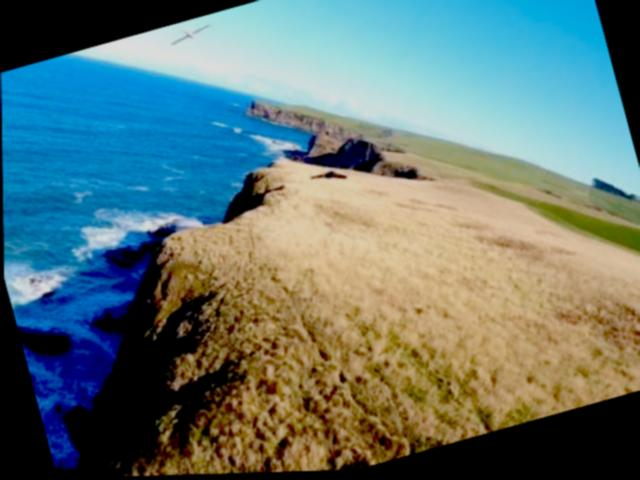uav: (169, 25, 214, 49)
